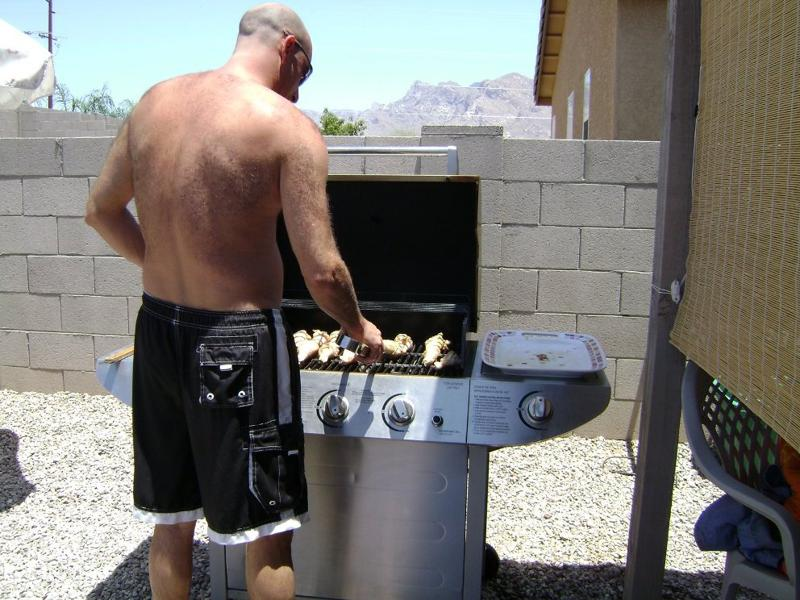person: (79, 5, 386, 598)
